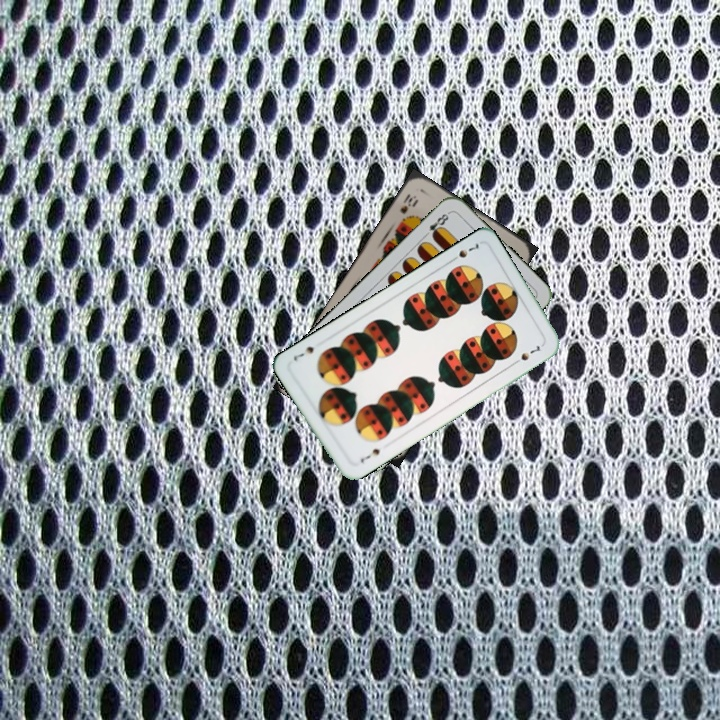E8: (420, 208, 452, 241)
S10: (396, 190, 420, 217)
S7: (446, 240, 481, 265), (356, 444, 382, 466)
